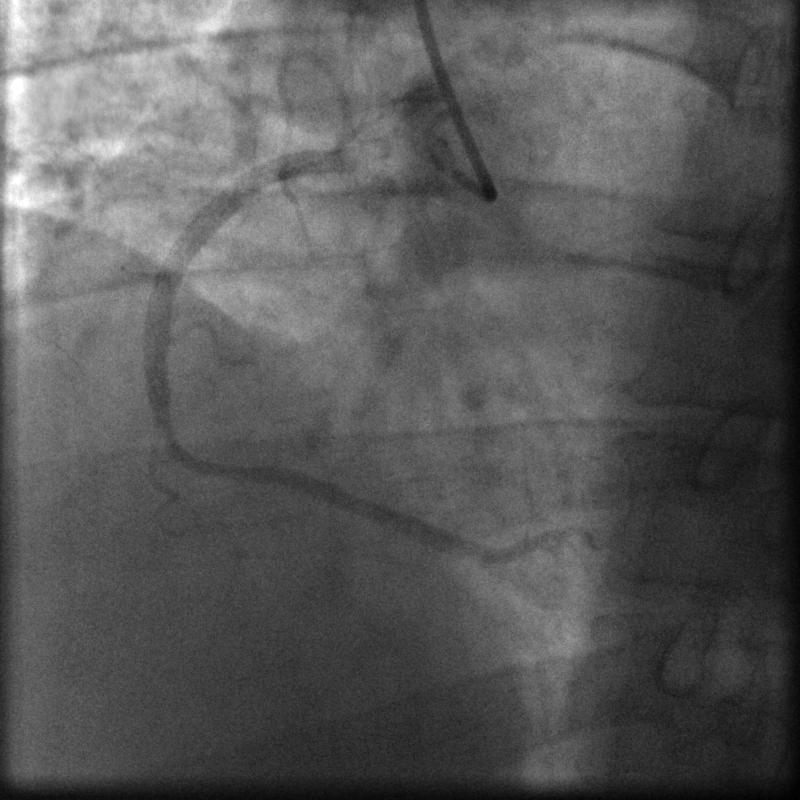Stenosis: (149, 402, 187, 467)
